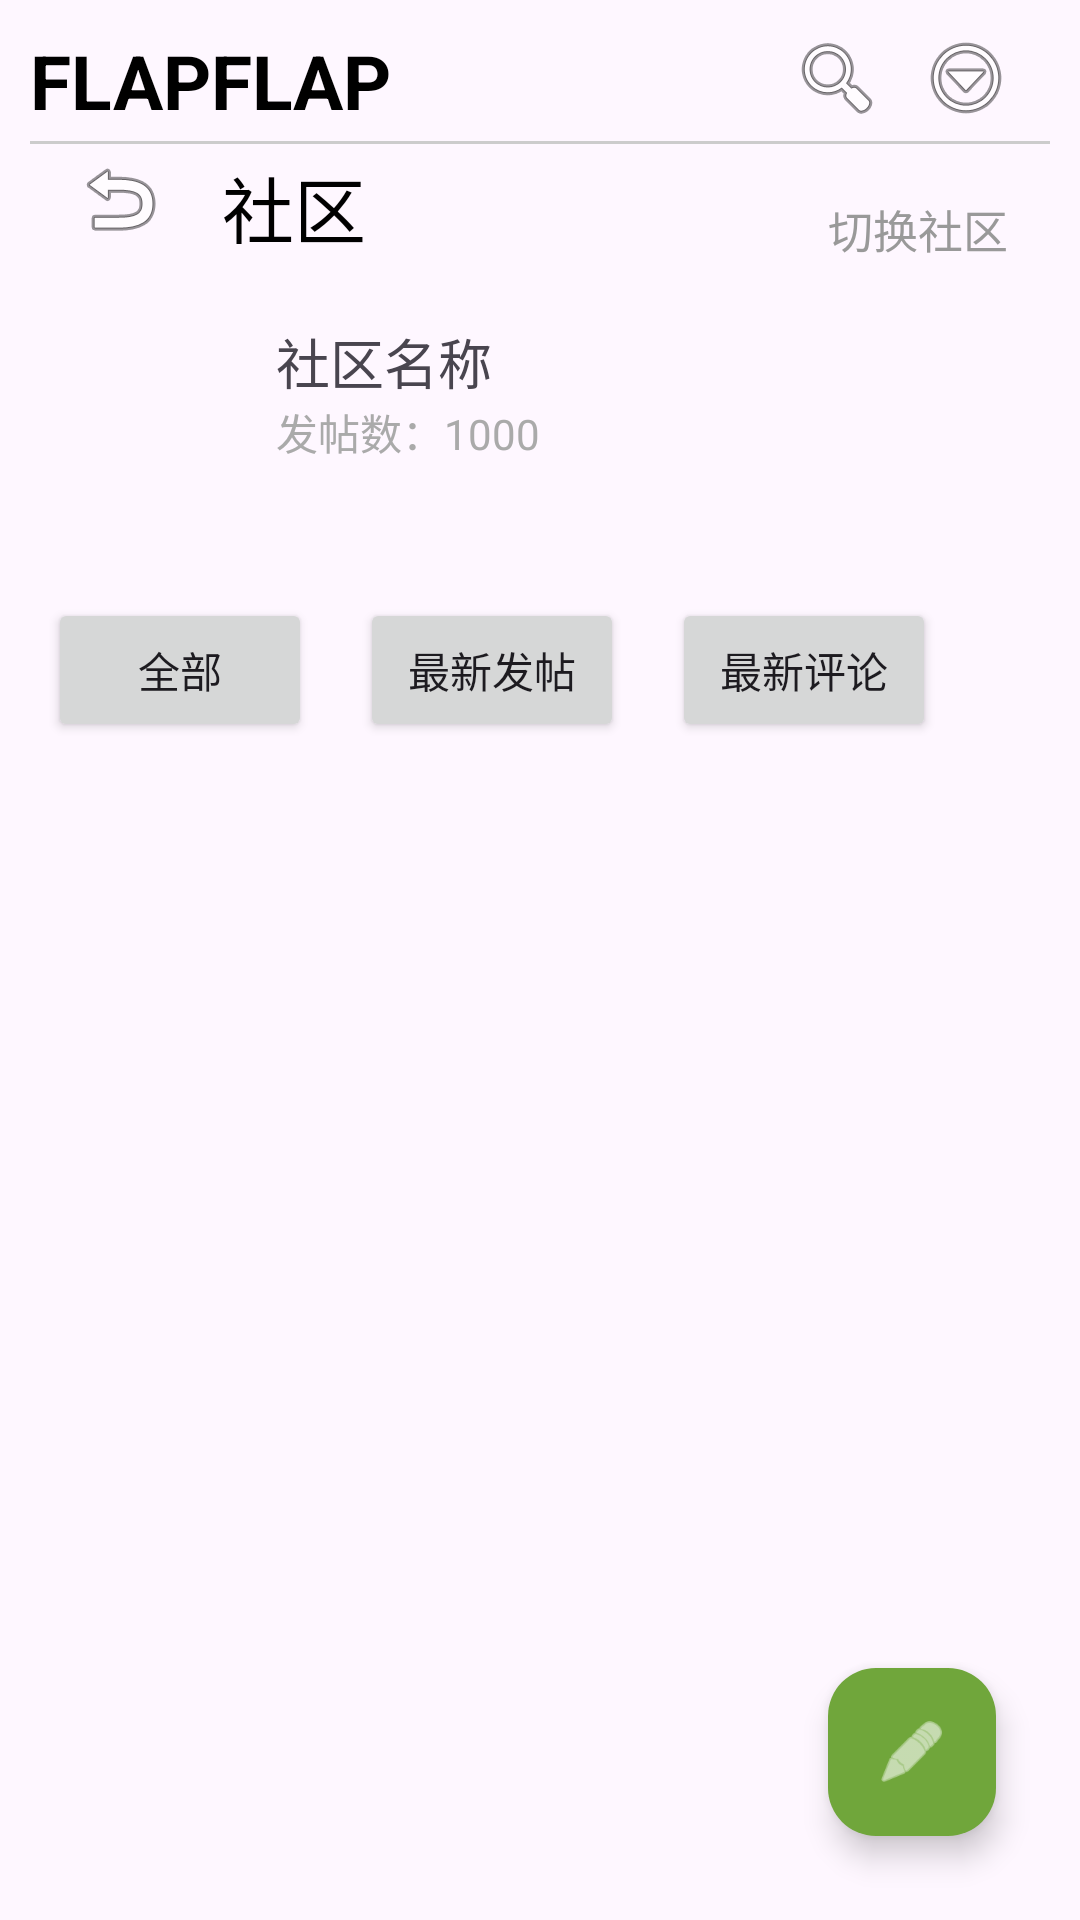

Locate icon controls on the screen. Image size 1080w x 1920h, boxes as region(x1, y1, x2, y2).
Back: region(87, 168, 156, 231)
edit: region(828, 1668, 996, 1836)
Menu: region(930, 42, 1002, 114)
Search: region(801, 43, 873, 114)
